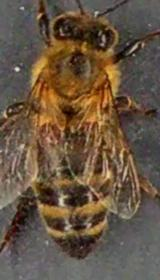varroa_mite: (36, 116, 61, 156)
